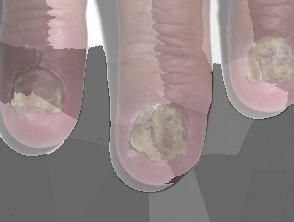Nail_psoriasis: (107, 90, 217, 194), (1, 60, 78, 142), (235, 26, 294, 97)
